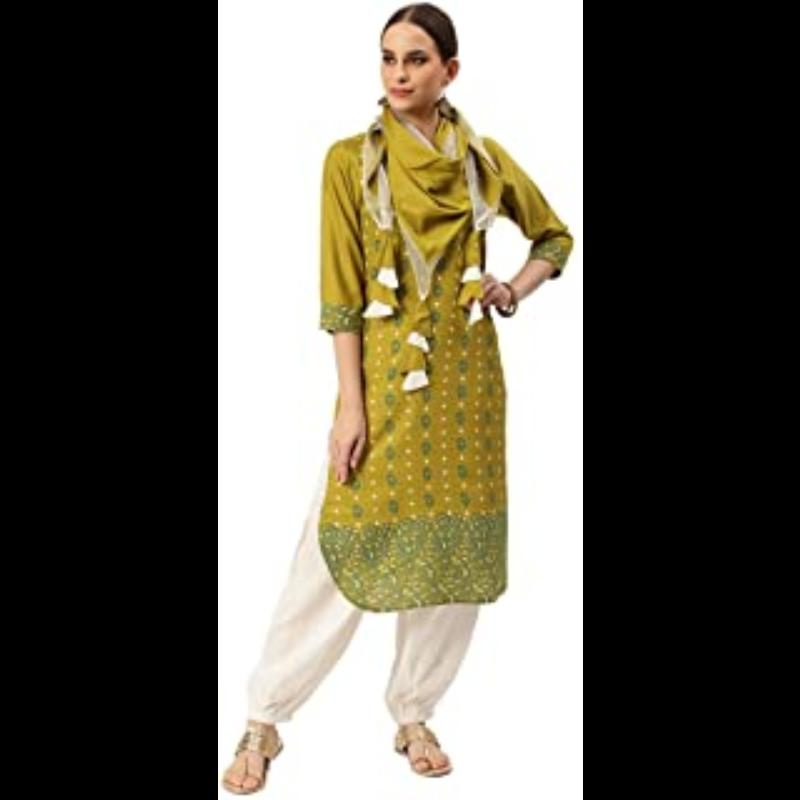Churidaar: (218, 112, 508, 725)
